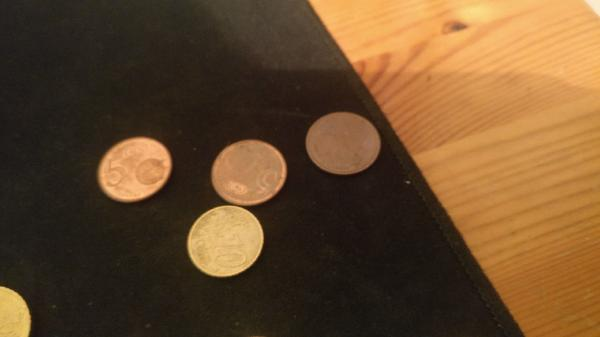Five Cent: (209, 138, 288, 208), (307, 110, 381, 177), (97, 135, 170, 202)
Ten Cent: (185, 204, 272, 280)
